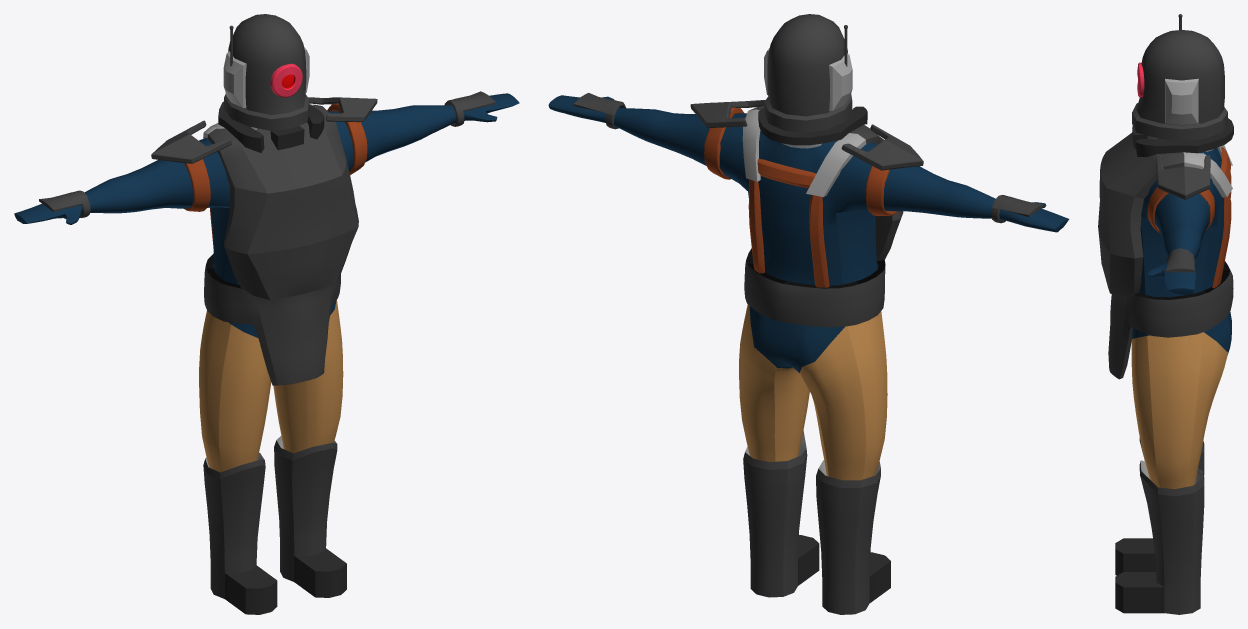
File: Shield_Guard.fbx
3 views of the same model, side by side, from view 1: azimuth 30°, elevation 25°; view 2: azimuth 150°, elevation 25°; view 3: azimuth 270°, elevation 25° (orthographic). The views are drawn at different scales.
Parts seen in each view (by area): view 1: enemy_PrisonGuard_low1; view 2: enemy_PrisonGuard_low1; view 3: enemy_PrisonGuard_low1.
Boxes of the visible parts, left/top/right/bottom form: enemy_PrisonGuard_low1: left=14, top=14, right=519, bottom=614; enemy_PrisonGuard_low1: left=548, top=14, right=1069, bottom=614; enemy_PrisonGuard_low1: left=1098, top=14, right=1233, bottom=614.
Bounding box in the file's own units: 3.54 × 3.86 × 0.8535.
